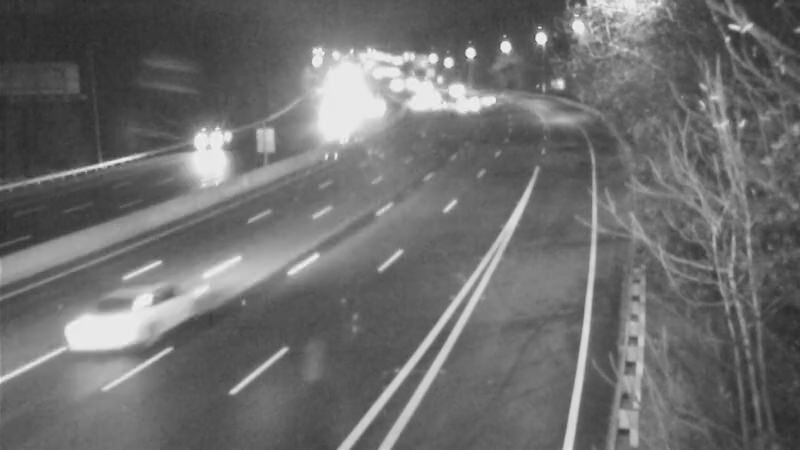vehicle: (51, 268, 161, 378), (427, 63, 477, 113), (408, 71, 458, 121), (393, 72, 443, 122), (470, 75, 520, 125), (443, 78, 493, 128), (182, 117, 232, 167)
